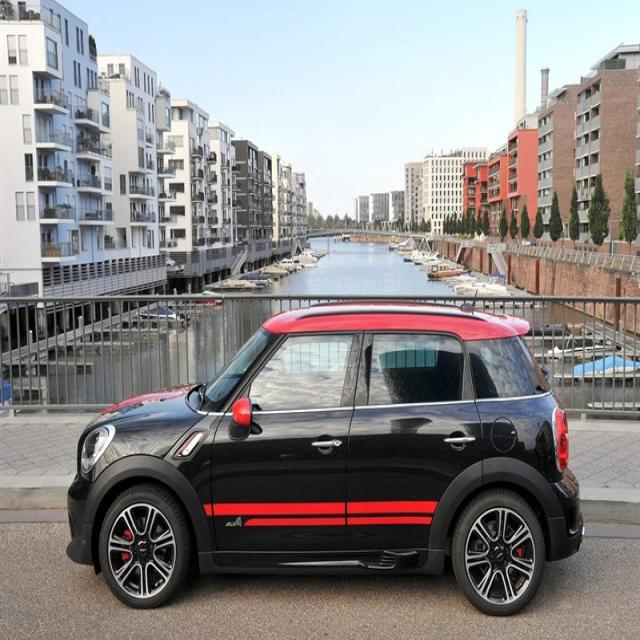back_glass: (513, 335, 551, 396)
back_left_side_light: (550, 404, 570, 473)
door: (338, 322, 492, 561)
front_bumper: (66, 473, 102, 570)
front_glass: (202, 323, 282, 410)
front_left_side_door: (210, 328, 366, 556)
front_left_side_light: (77, 423, 116, 478)
front_left_side_mirror: (232, 396, 253, 440)
rear_bumper: (536, 470, 586, 561)
wheel: (452, 491, 543, 614), (98, 486, 188, 608)
